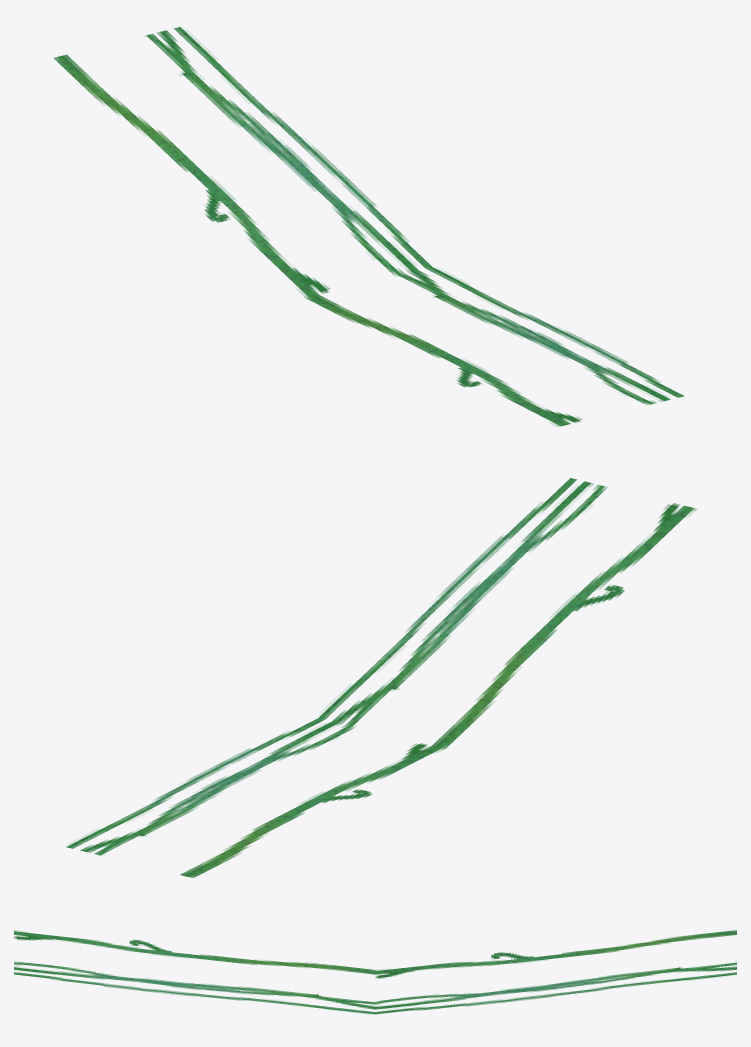
File: bent_vines_1_normal.glb
3 renders of one model, top to bottom at view 1: azimuth 30°, elevation 25°; view 2: azimuth 150°, elevation 25°; view 3: azimuth 270°, elevation 25°, orthographic. The views are drawn at different scales.
Visible parts, largest first — view 1: Bent Vines 1 Normal; view 2: Bent Vines 1 Normal; view 3: Bent Vines 1 Normal.
Part boxes in pixels (x1,y1,x2,y2): Bent Vines 1 Normal: (53, 27, 684, 426); Bent Vines 1 Normal: (66, 478, 696, 877); Bent Vines 1 Normal: (14, 930, 736, 1014).
Size of the model in its own units: 1 by 0.2429 by 4.
Materials: 1 (1 with a texture image).
